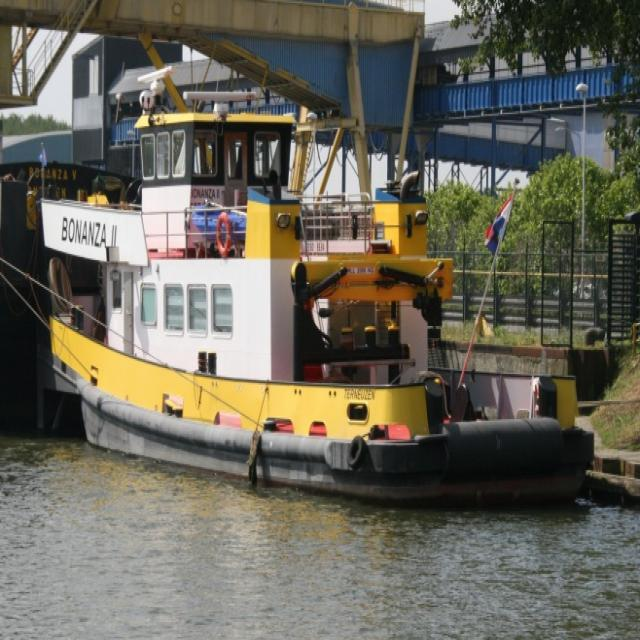tugboat: (22, 23, 602, 521)
